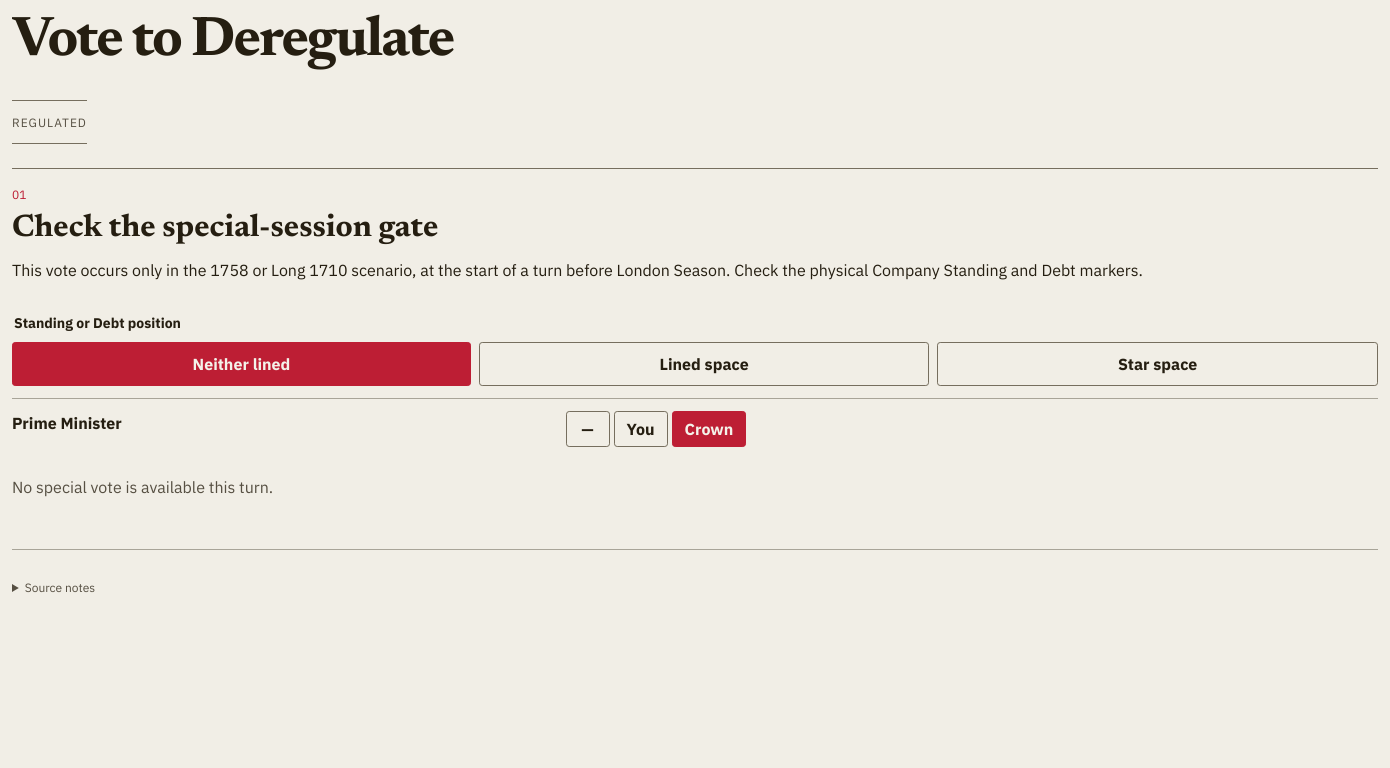
Test: Vote to Deregulate › prevents a voluntary Crown-PM vote but requires the vote on a star
Click the button "Lined space" at [704, 364], box [479, 342, 929, 386]
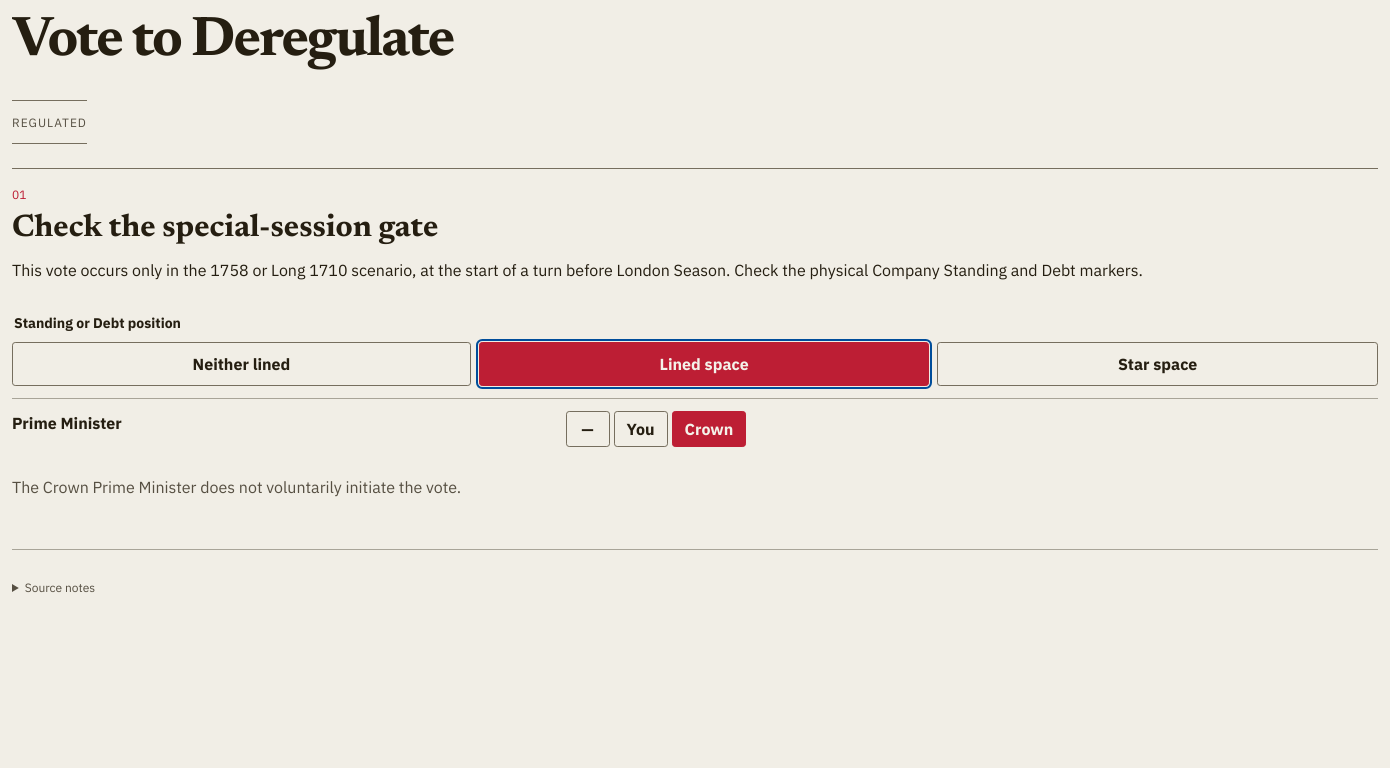
Expected: the button "Vote passed" is not shown
Expected: the text "does not voluntarily initiate" is shown, [12, 477, 461, 497]
Click the button "Star space" at [1158, 364], box [937, 342, 1378, 386]
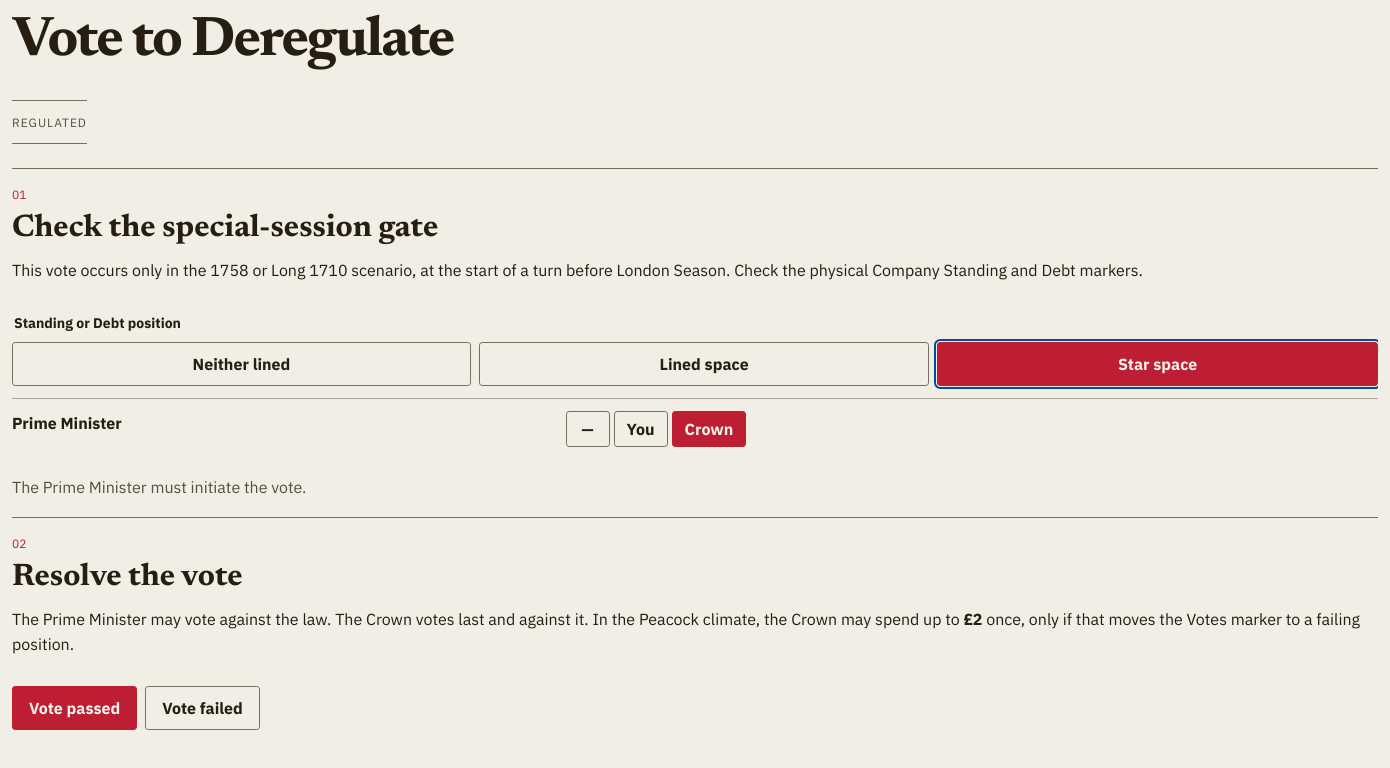
Expected: the text "The Prime Minister must initiate the vote." is shown, [12, 477, 306, 497]
Expected: the text "Crown may spend up to" shows "£2", [12, 606, 1378, 658]
Expected: the button "Vote passed" is shown, [12, 686, 137, 730]
